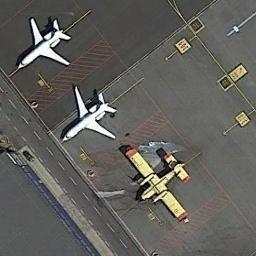Airplane: (122, 140, 209, 224), (50, 84, 130, 144), (12, 13, 82, 73)
